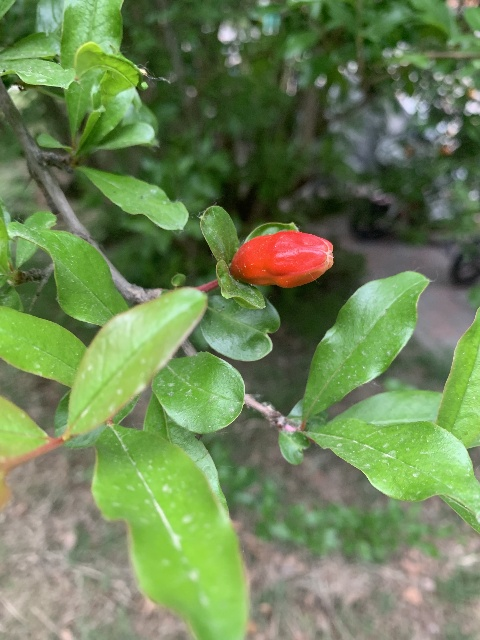bud: (230, 230, 334, 289)
